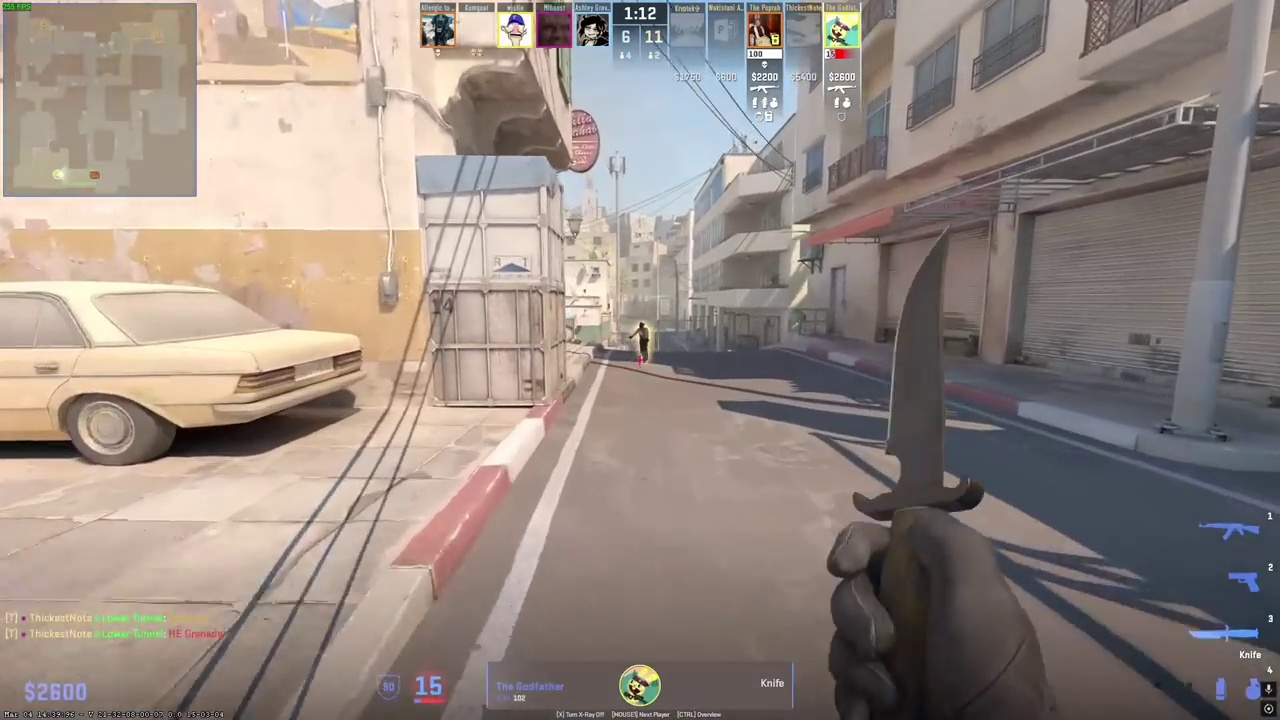Terrorist: (635, 321, 650, 361)
